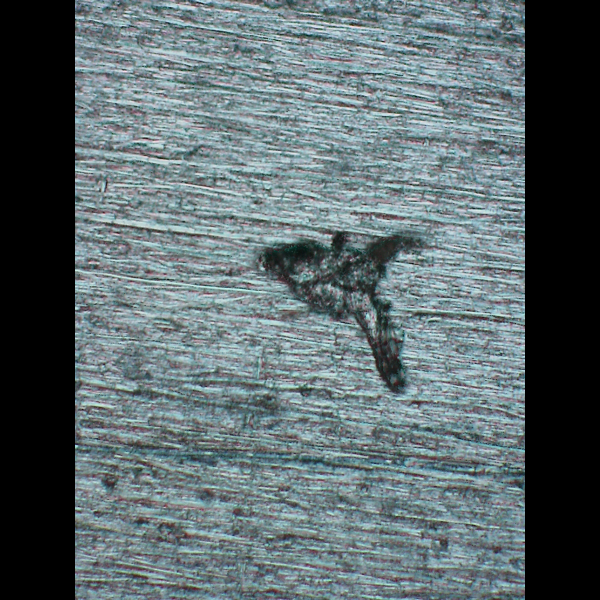d: (251, 222, 438, 399)
